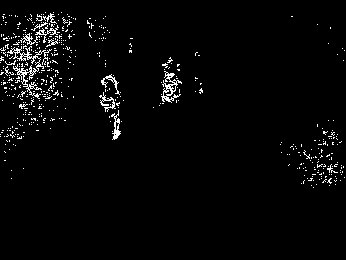person: (98, 74, 130, 143)
